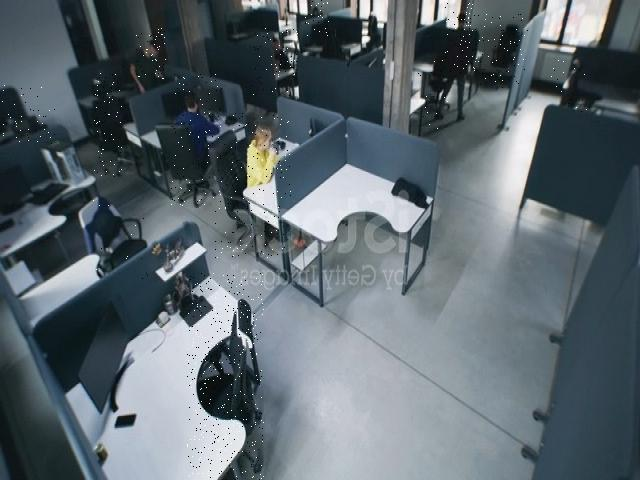empty chair: (187, 273, 264, 480), (72, 188, 149, 283), (479, 15, 528, 90), (1, 85, 55, 144), (94, 72, 122, 177), (550, 56, 588, 123), (417, 57, 451, 131)
occupiedchair: (214, 113, 291, 259), (171, 74, 222, 206), (252, 28, 298, 96)
